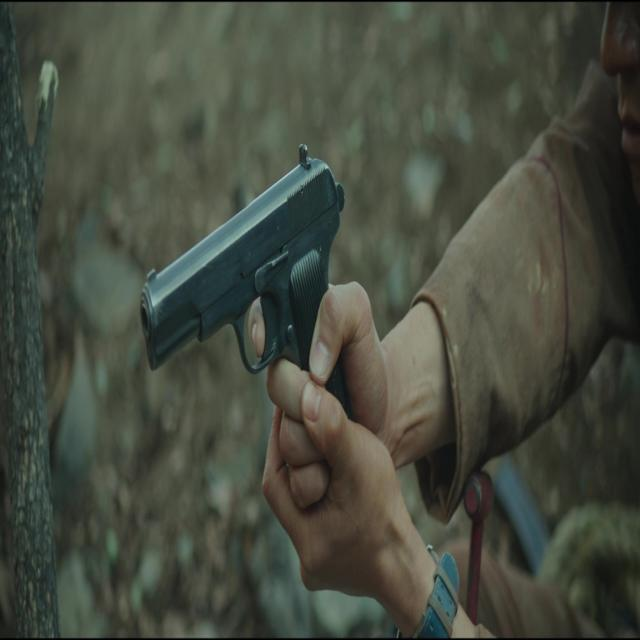gun-knife-thesis - v11 Yolov5 augmented: (137, 136, 356, 514)
